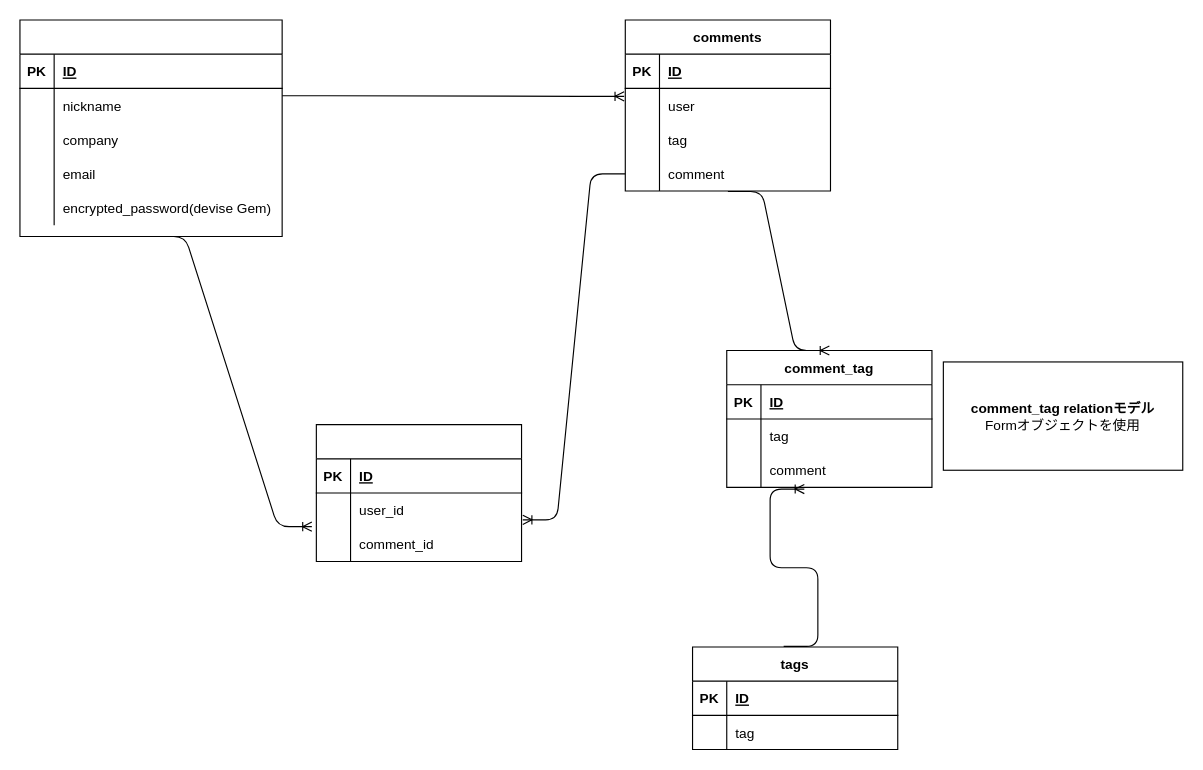
Some shapes in this 1203 by 770 pixel diagram are drawn without their labels. The shapes that lost their labels are listed below. From the top down, each one's box as (x1, y1, x2, y2) in pixels, then its label:
(19, 19, 282, 237): Users
(315, 424, 522, 561): Like
